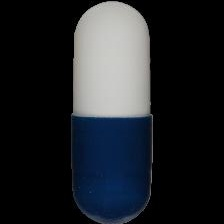54868-5315: (0, 0, 224, 224)
